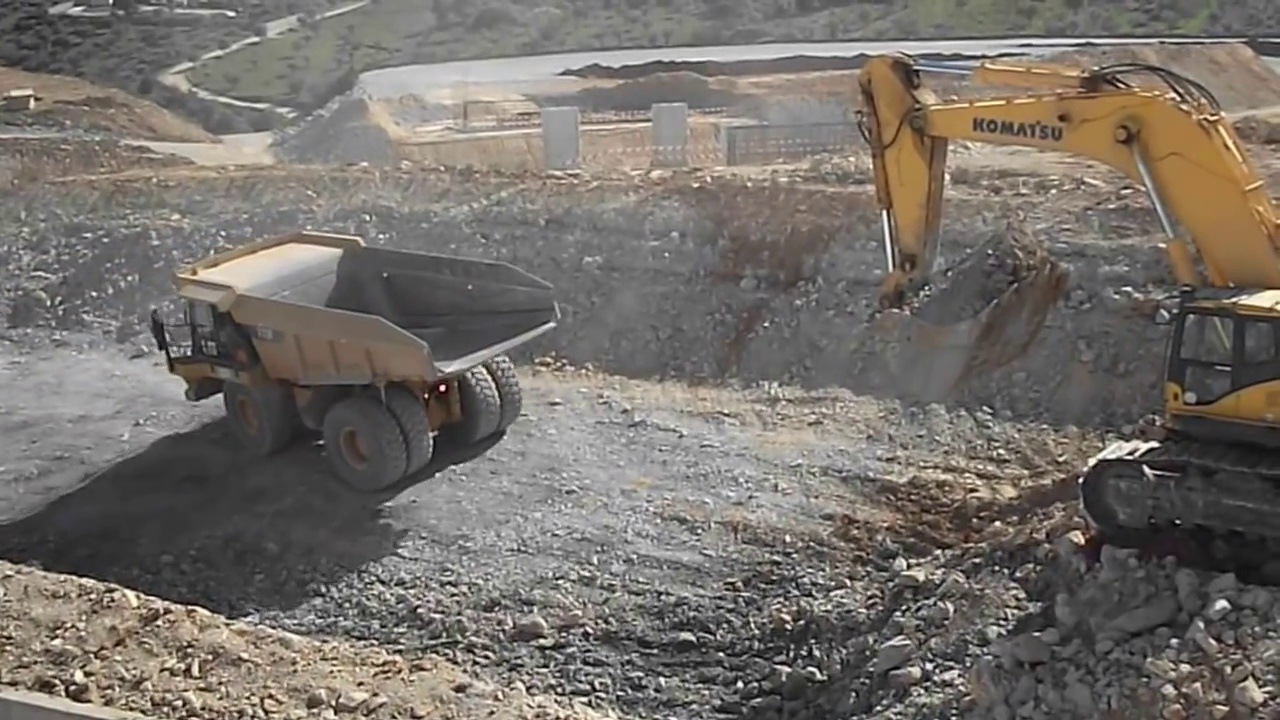dumper: (153, 231, 560, 492)
excavator: (857, 50, 1277, 557)
